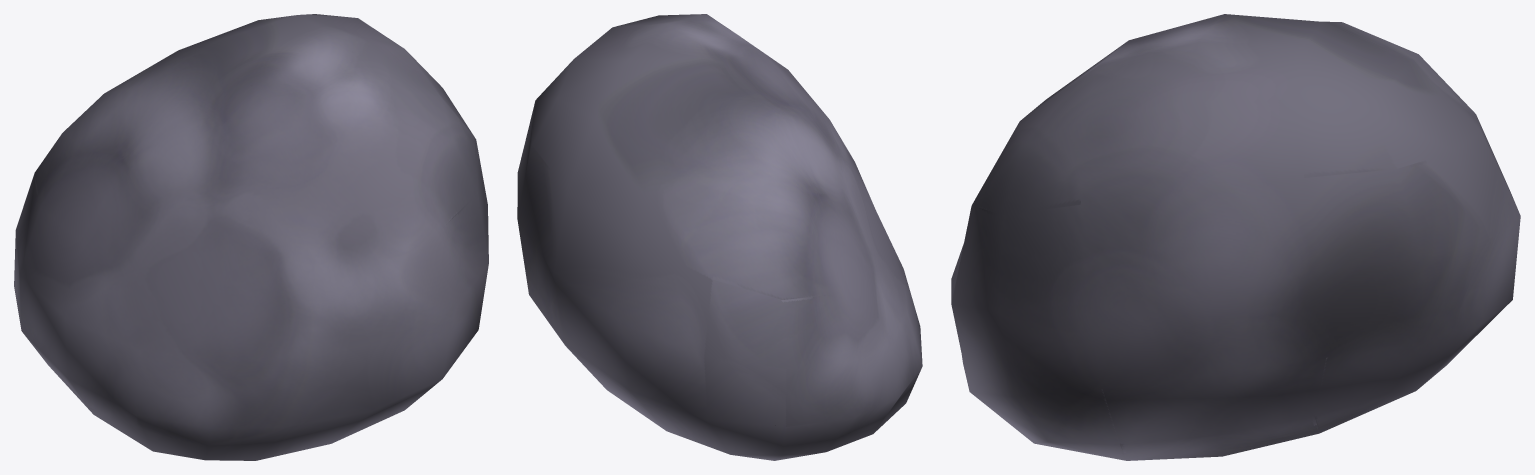
File: asteroide3.fbx
The picture shows the model from 3 angles, left to right: view 1: azimuth 30°, elevation 25°; view 2: azimuth 150°, elevation 25°; view 3: azimuth 270°, elevation 25°; orthographic projection. The views are drawn at different scales.
Parts seen in each view (by area): view 1: Asteroide3; view 2: Asteroide3; view 3: Asteroide3.
Part boxes in pixels (<box>): Asteroide3: <box>14,14,488,460</box>; Asteroide3: <box>517,14,922,460</box>; Asteroide3: <box>951,14,1520,460</box>.
Size of the model in its own units: 399 by 381 by 431.
1 material, 1 textured.
